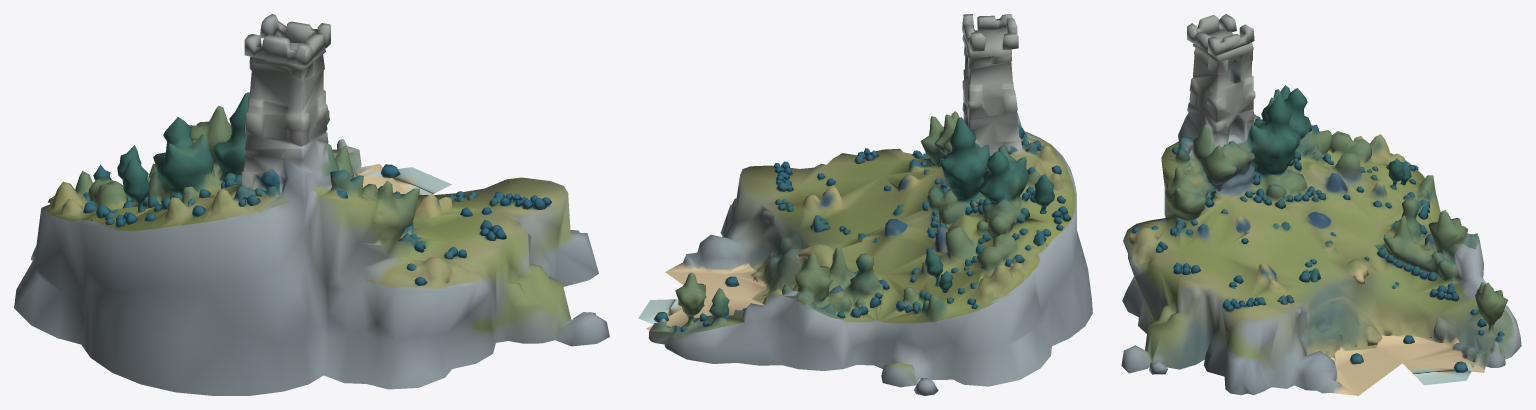
The model's file is isle_13_p1.glb.
3 renders of one model, left to right at view 1: azimuth 30°, elevation 25°; view 2: azimuth 150°, elevation 25°; view 3: azimuth 270°, elevation 25°, orthographic. The views are drawn at different scales.
Visible parts, largest first — view 1: tripo_node_a62eb696-8bb4-4016-801e-56024d1c9149; view 2: tripo_node_a62eb696-8bb4-4016-801e-56024d1c9149; view 3: tripo_node_a62eb696-8bb4-4016-801e-56024d1c9149.
Part boxes in pixels (<box>): tripo_node_a62eb696-8bb4-4016-801e-56024d1c9149: <box>14,14,609,395</box>; tripo_node_a62eb696-8bb4-4016-801e-56024d1c9149: <box>638,14,1092,395</box>; tripo_node_a62eb696-8bb4-4016-801e-56024d1c9149: <box>1121,14,1521,395</box>.
Bounding box in the file's own units: 0.998 × 0.6504 × 0.9395.
1 material, 1 textured.
